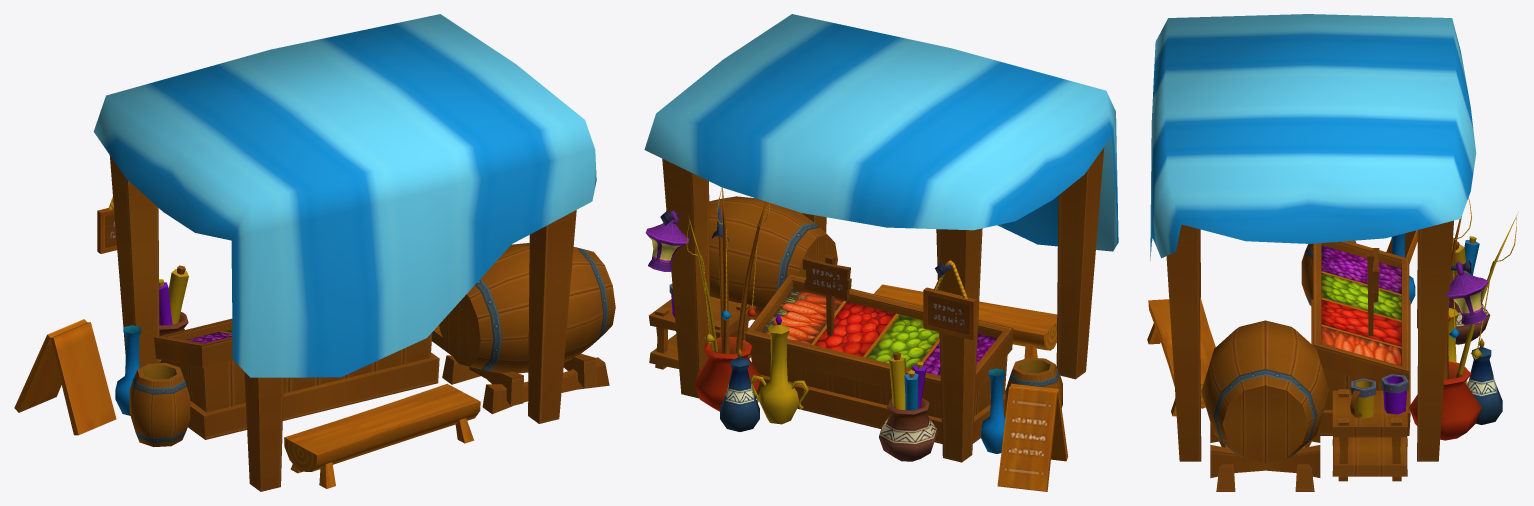
File: HOS1010003.fbx
3 renders of one model, left to right at view 1: azimuth 30°, elevation 25°; view 2: azimuth 150°, elevation 25°; view 3: azimuth 270°, elevation 25°, orthographic. The views are drawn at different scales.
Parts seen in each view (by area): view 1: smHOS1010003; view 2: smHOS1010003; view 3: smHOS1010003.
Part boxes in pixels (left/top/right/bottom): smHOS1010003: left=14, top=14, right=615, bottom=491; smHOS1010003: left=644, top=14, right=1118, bottom=491; smHOS1010003: left=1147, top=14, right=1518, bottom=491.
Size of what is drawn, in the model's own units: 494 by 303 by 339.
1 material, 1 textured.
